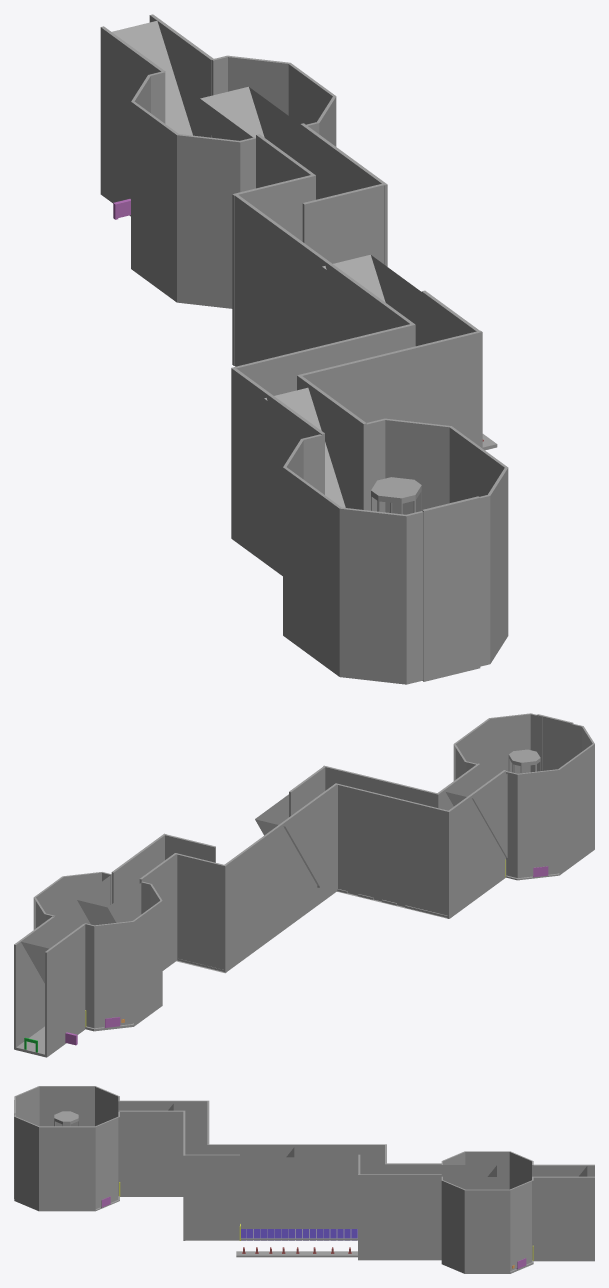
File: Floor -2 Level 3.fbx
3 views of the same model, one above another, from view 1: azimuth 30°, elevation 25°; view 2: azimuth 150°, elevation 25°; view 3: azimuth 270°, elevation 25° (orthographic). The views are drawn at different scales.
Visible parts, largest first — view 1: pCube209, pCube210, pCube220, pCube224, pCube256, pCube229, pCube213, pCube221, pPlane3, pCube226, pPlane2, pCube231 (+7 smaller); view 2: pCube209, pCube226, pCube210, pCube220, pCube219, pCube229, pCube213, pCube212, pPlane3, pCube218, pPlane2, pCube224 (+7 smaller); view 3: pCube209, pCube210, pCube220, pCube216, pCube212, pCube223, pCube231, pPlane4, pCube229, pPlane3, pPlane2, pCube222 (+4 smaller).
Part boxes in pixels (x1,y1,x2,y2): pCube209: (283, 418, 508, 684); pCube210: (131, 55, 336, 308); pCube220: (234, 195, 415, 366); pCube224: (297, 330, 482, 448); pCube256: (422, 496, 480, 681); pCube229: (231, 368, 324, 575); pCube213: (100, 26, 165, 216); pCube221: (302, 184, 383, 263); pPlane3: (322, 254, 421, 346); pCube226: (231, 323, 414, 395); pPlane2: (200, 86, 300, 163); pCube231: (298, 375, 366, 510); pCube209: (453, 713, 594, 880); pCube226: (335, 783, 449, 918); pCube210: (33, 872, 162, 1031); pCube220: (224, 783, 337, 972); pCube219: (175, 853, 226, 973); pCube229: (447, 770, 506, 918); pCube213: (45, 924, 85, 1057); pCube212: (14, 916, 54, 1049); pPlane3: (255, 794, 319, 887); pCube218: (139, 853, 177, 970); pPlane2: (77, 875, 141, 925); pCube224: (323, 765, 439, 808); pCube209: (14, 1086, 119, 1211); pCube210: (441, 1151, 533, 1273); pCube220: (207, 1144, 384, 1228); pCube216: (358, 1174, 441, 1260); pCube212: (533, 1176, 594, 1261); pCube223: (185, 1154, 239, 1240); pCube231: (118, 1110, 183, 1196); pPlane4: (118, 1104, 173, 1180); pCube229: (118, 1100, 207, 1154); pPlane3: (240, 1147, 294, 1223); pPlane2: (443, 1165, 496, 1189); pCube222: (236, 1251, 357, 1257).
Bounding box in the file's own units: 76.45 × 29.81 × 182.
